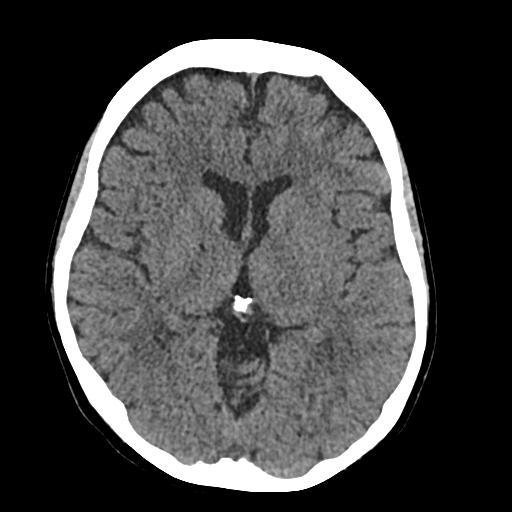Cancer: (209, 350, 270, 412)
